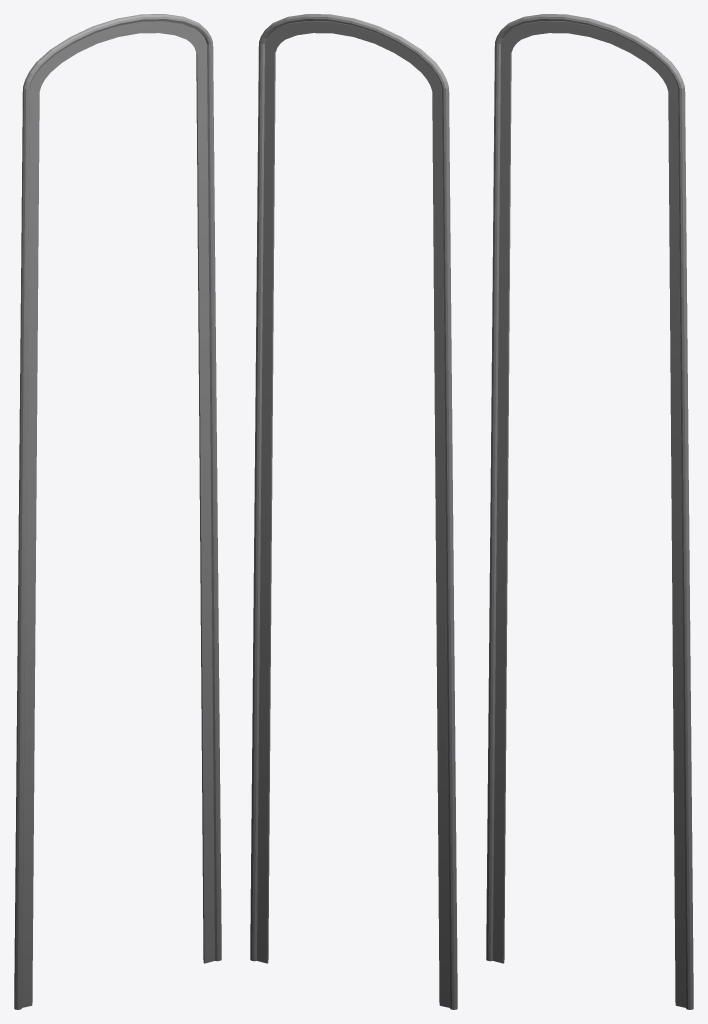
The model's file is SM_DoorArch.fbx.
3 renders of one model, left to right at view 1: azimuth 30°, elevation 25°; view 2: azimuth 150°, elevation 25°; view 3: azimuth 330°, elevation 25°, orthographic.
Parts seen in each view (by area): view 1: SM_DoorArch; view 2: SM_DoorArch; view 3: SM_DoorArch.
Boxes of the visible parts, box(x1,y1,x2,y2) form: SM_DoorArch: box(14, 14, 221, 1009); SM_DoorArch: box(250, 14, 457, 1009); SM_DoorArch: box(486, 14, 693, 1009).
Bounding box in the file's own units: 201 × 897 × 6.31.
